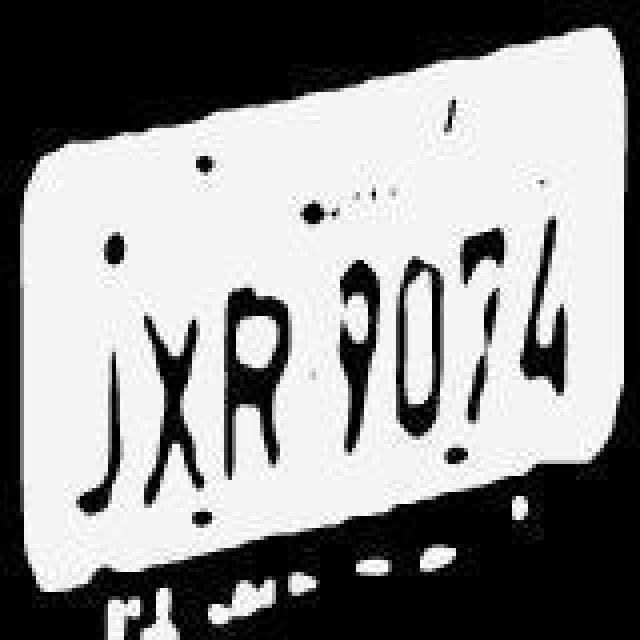4: (516, 194, 588, 438)
7: (448, 212, 512, 436)
9: (320, 234, 384, 486)
J: (60, 310, 132, 530)
O: (386, 228, 454, 444)
R: (214, 262, 298, 498)
X: (140, 284, 212, 508)
